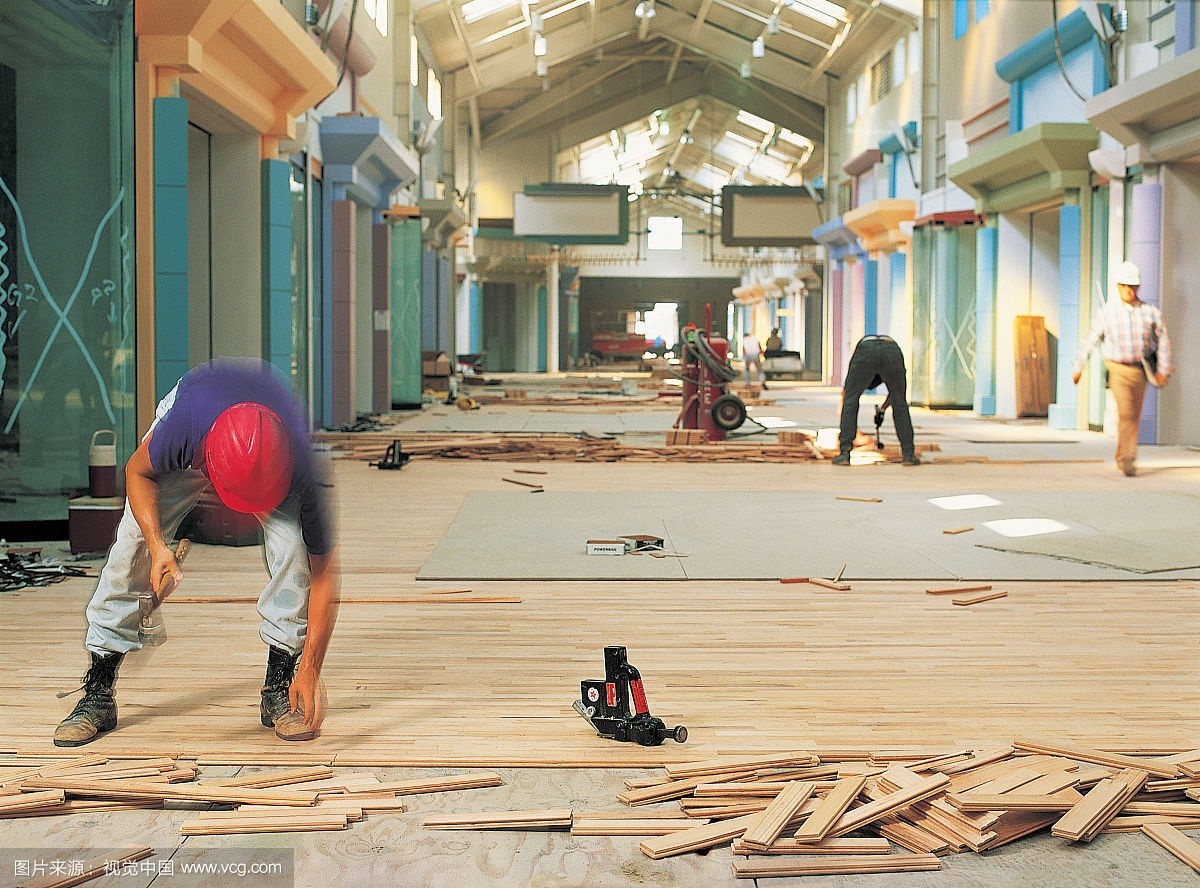red: (203, 404, 295, 518)
white: (1112, 260, 1142, 305)
